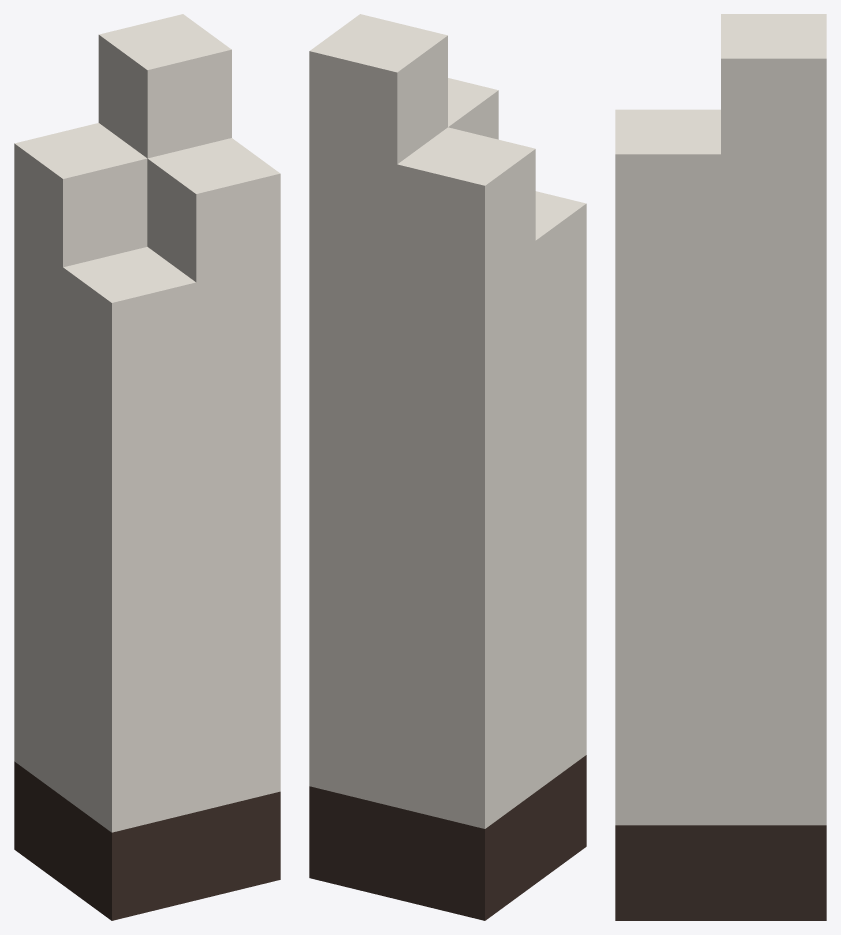
File: goat_kid__leg_bl.glb
The picture shows the model from 3 angles, left to right: view 1: azimuth 30°, elevation 25°; view 2: azimuth 150°, elevation 25°; view 3: azimuth 270°, elevation 25°; orthographic projection. The views are drawn at different scales.
Parts seen in each view (by area): view 1: goat_kid__leg_bl; view 2: goat_kid__leg_bl; view 3: goat_kid__leg_bl.
Boxes of the visible parts, <box> form: goat_kid__leg_bl: <box>14,14,280,920</box>; goat_kid__leg_bl: <box>309,14,586,920</box>; goat_kid__leg_bl: <box>615,14,826,920</box>.
Size of the model in its own units: 0.2 by 0.9 by 0.2.
Materials: 1 (1 with a texture image).
